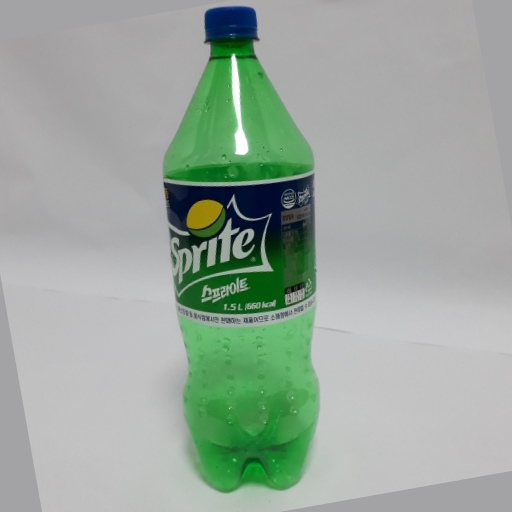Plastic_0: (154, 6, 328, 502)
